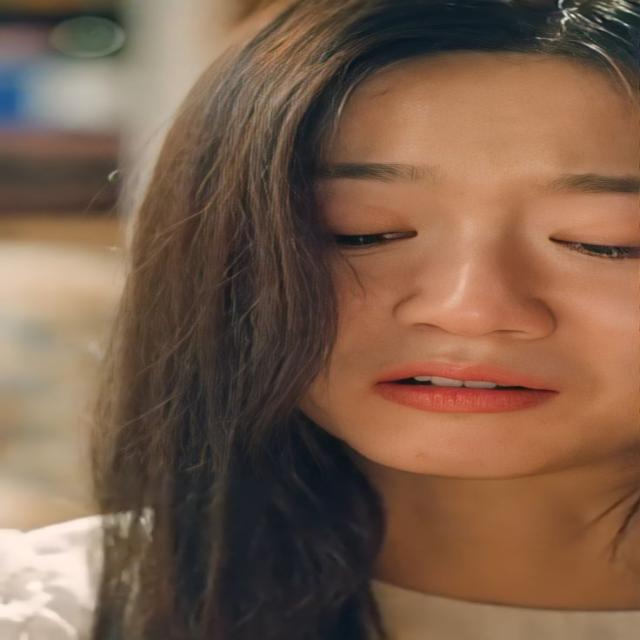sem_oculos: (259, 151, 640, 295)
